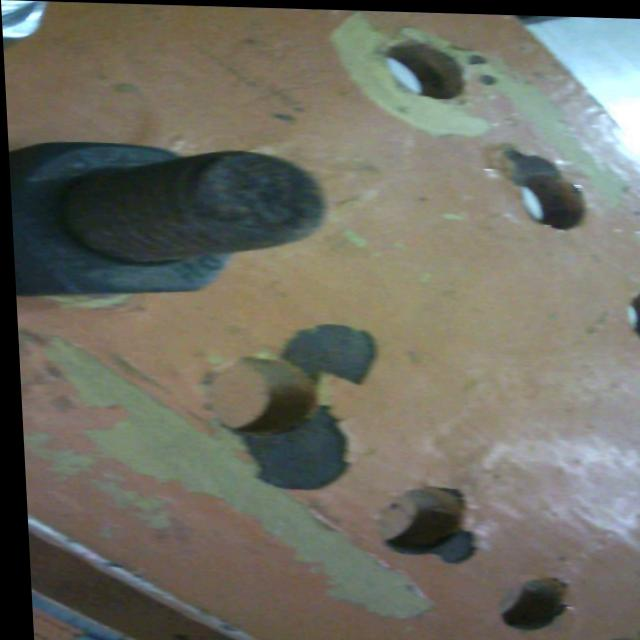Missing bolt: (196, 352, 328, 437), (371, 485, 468, 559), (384, 37, 468, 98), (490, 573, 569, 630), (522, 172, 590, 231), (624, 287, 640, 338), (579, 636, 639, 640)
Rusty bolt: (7, 143, 324, 302)
